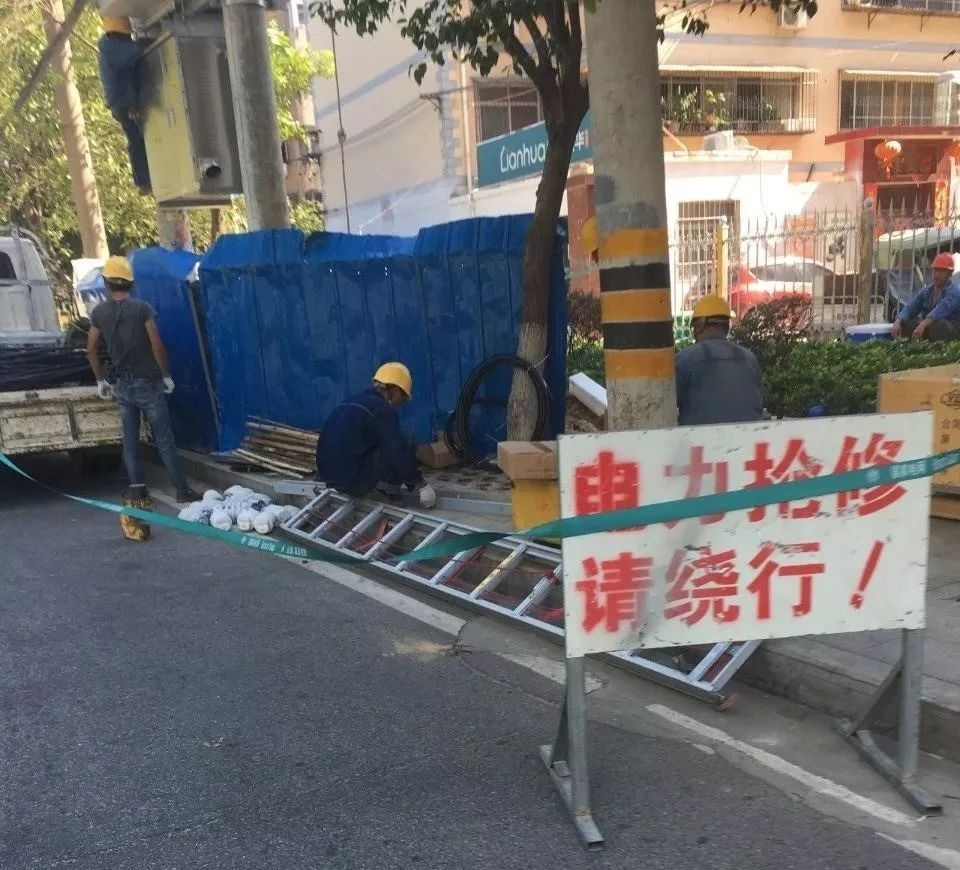red: (929, 249, 958, 288)
yellow: (686, 293, 733, 344), (366, 358, 413, 404), (98, 252, 134, 298)
